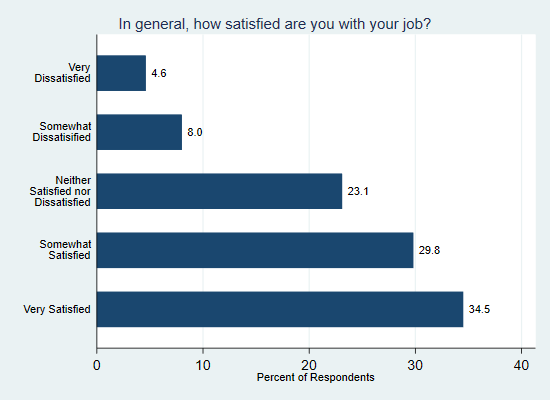canvas: (96, 52, 493, 334)
title: (116, 12, 435, 33)
x-labels: (82, 358, 534, 372)
x-title: (254, 372, 379, 387)
y-labels: (19, 54, 93, 335)
